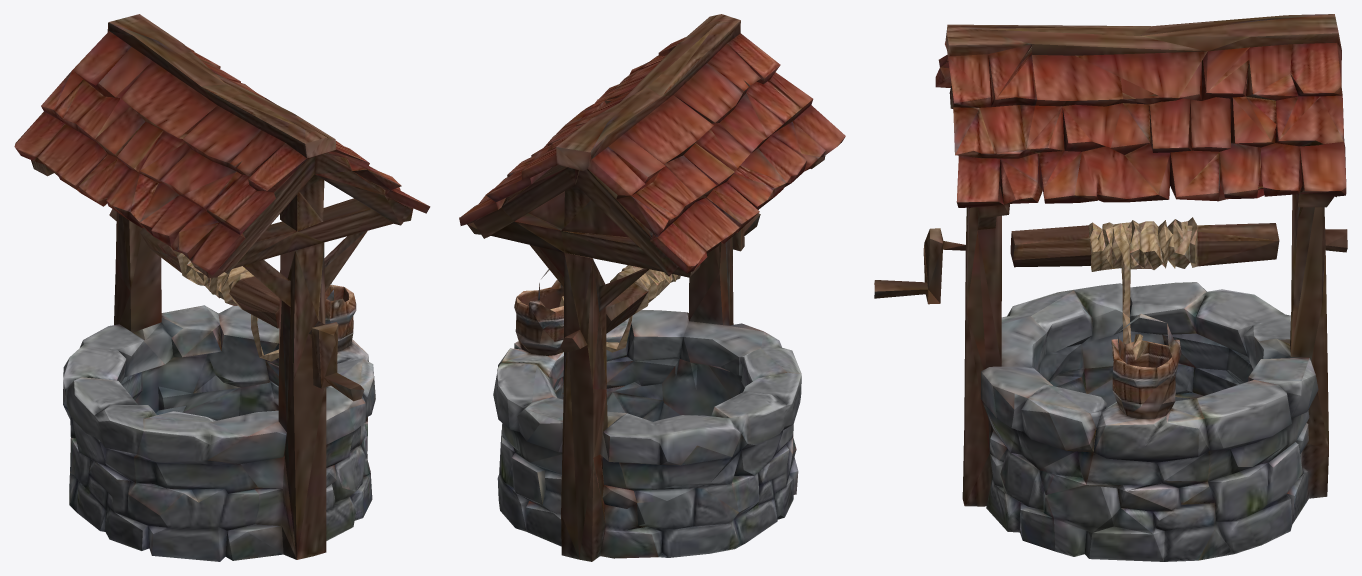
The model's file is well_3d.glb.
3 renders of one model, left to right at view 1: azimuth 30°, elevation 25°; view 2: azimuth 150°, elevation 25°; view 3: azimuth 270°, elevation 25°, orthographic. The views are drawn at different scales.
Parts seen in each view (by area): view 1: Mesh_0; view 2: Mesh_0; view 3: Mesh_0.
Part boxes in pixels (box(x1,y1,x2,y2)): Mesh_0: box(14, 14, 430, 561); Mesh_0: box(459, 14, 845, 561); Mesh_0: box(874, 14, 1347, 561).
Size of the model in its own units: 0.7285 by 1.09 by 1.
Materials: 1 (1 with a texture image).
